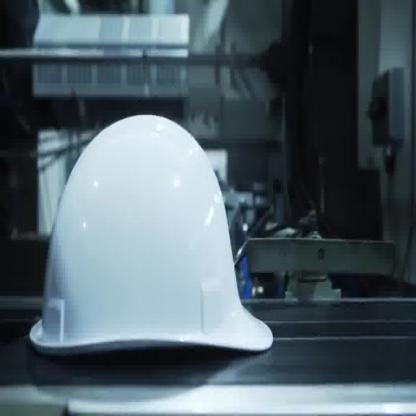helmet: (28, 115, 276, 358)
